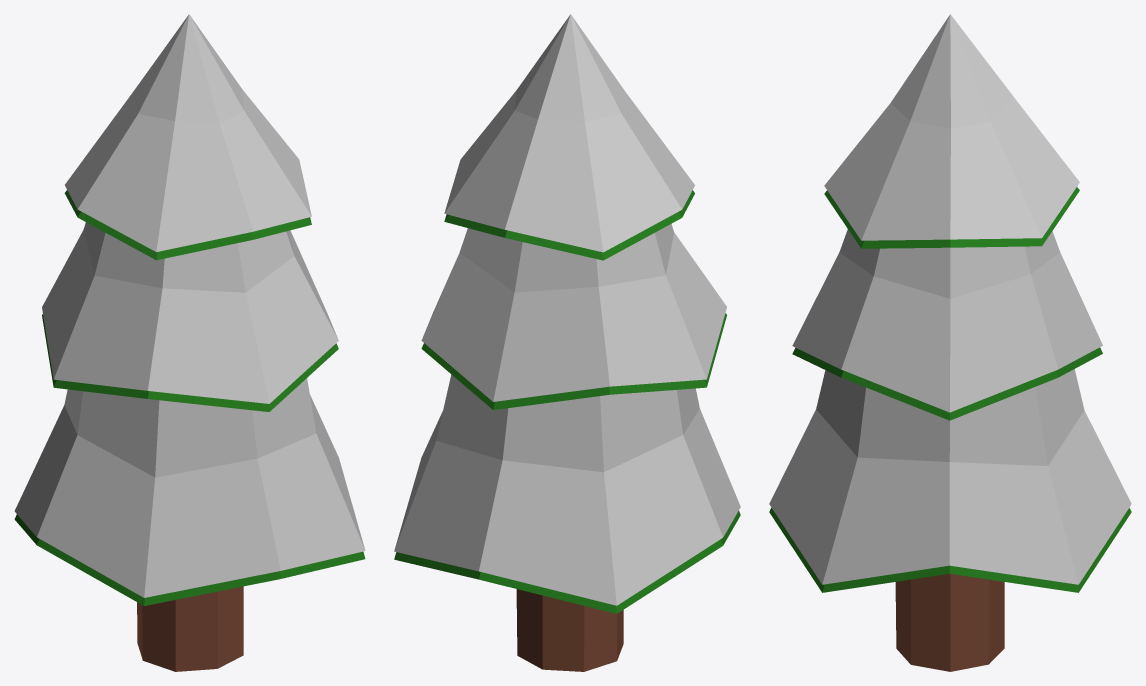
Rendered from Tree_01_winter_vc.fbx.
3 views of the same model, side by side, from view 1: azimuth 30°, elevation 25°; view 2: azimuth 150°, elevation 25°; view 3: azimuth 270°, elevation 25° (orthographic).
Visible parts, largest first — view 1: Tree_01_winter_vc; view 2: Tree_01_winter_vc; view 3: Tree_01_winter_vc.
Boxes of the visible parts, x1,y1,x2,y2 form: Tree_01_winter_vc: [14, 14, 365, 671]; Tree_01_winter_vc: [394, 14, 740, 671]; Tree_01_winter_vc: [769, 14, 1131, 671].
Bounding box in the file's own units: 2.16 × 4.35 × 2.26.
